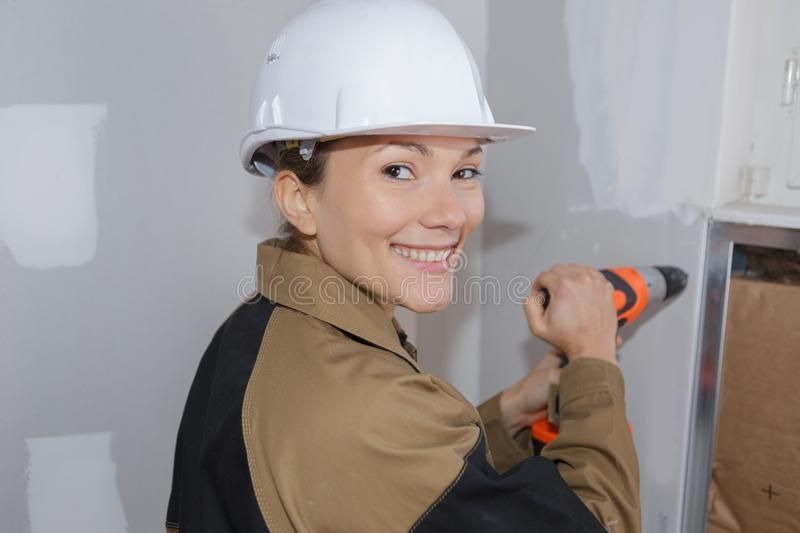helmet: (216, 11, 548, 161)
no-vest: (161, 294, 636, 533)
person: (159, 6, 634, 533)
